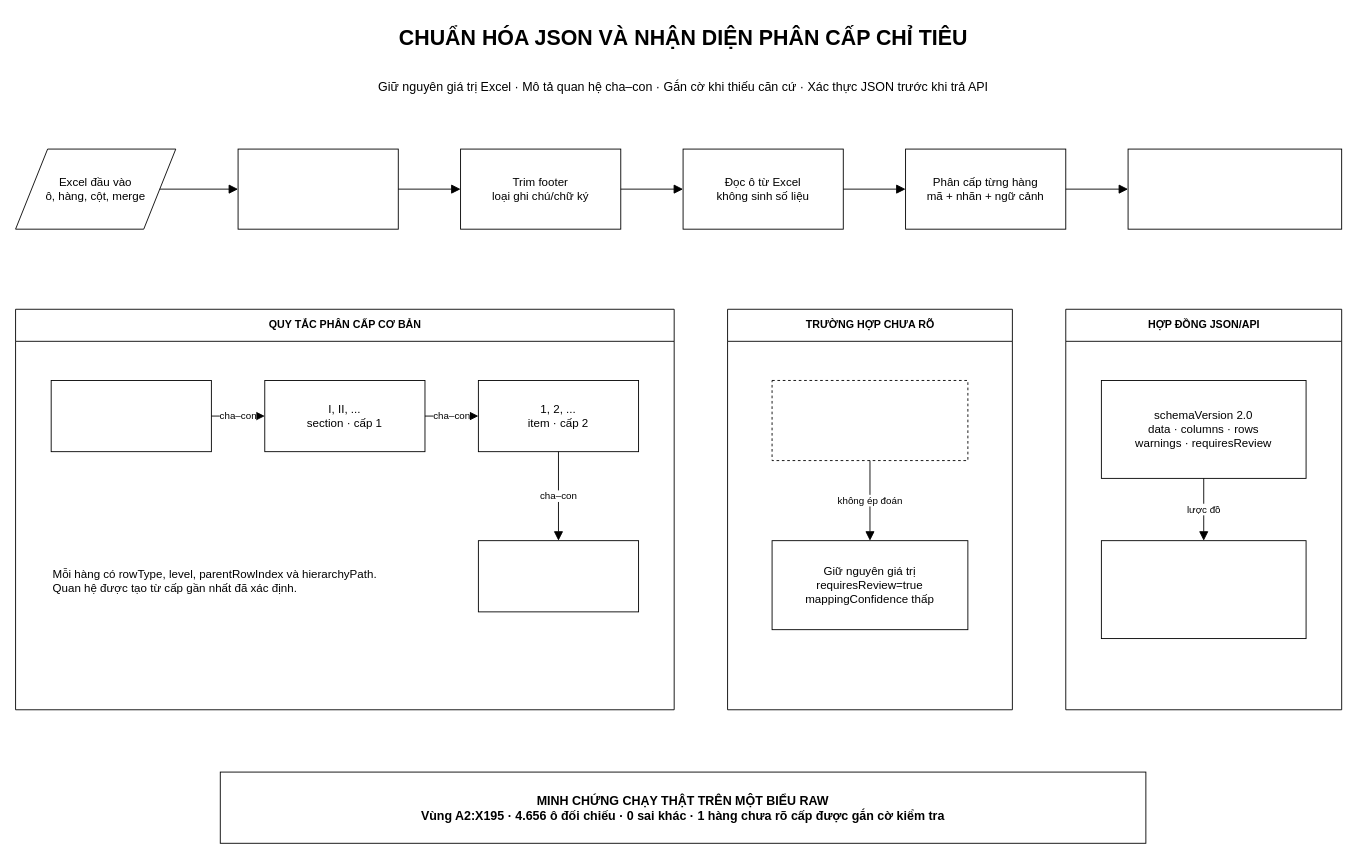
The diagram is 1357 pixels wide and 859 high, and some of its shapes have lost their labels. Here are the shapes that lost their labels. From the top down, the centre of each, then its label:
[317,188]: Mô hình dự đoán vùng header/value
[1234,188]: Pydantic xác thực JSON 2.0 trả qua FastAPI
[130,416]: Tổng số grand_total · cấp 0
[869,420]: Mã '-' hoặc nhãn không đủ căn cứ unclassified / detail
[558,576]: 1.1, 1.2, ... subitem · cấp 3 trở xuống
[1203,589]: Swagger công bố lược đồ JSON sai cấu trúc bị chặn
